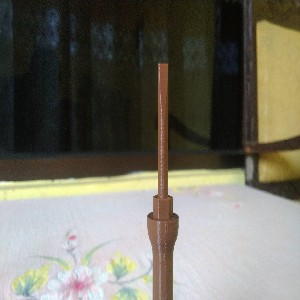obeng: (146, 62, 180, 300)
